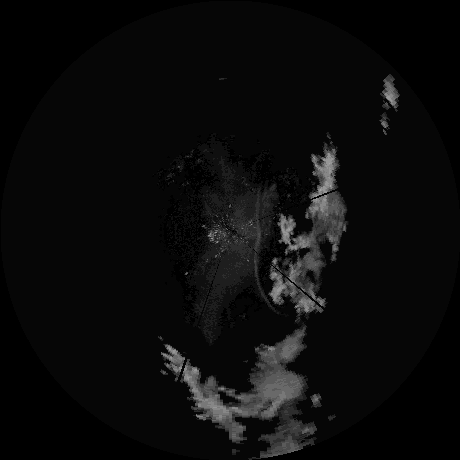frontgust: (251, 189, 281, 314)
